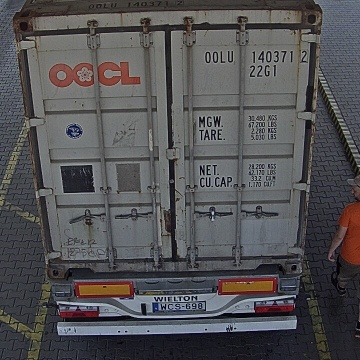serial_id: (205, 50, 309, 63)
